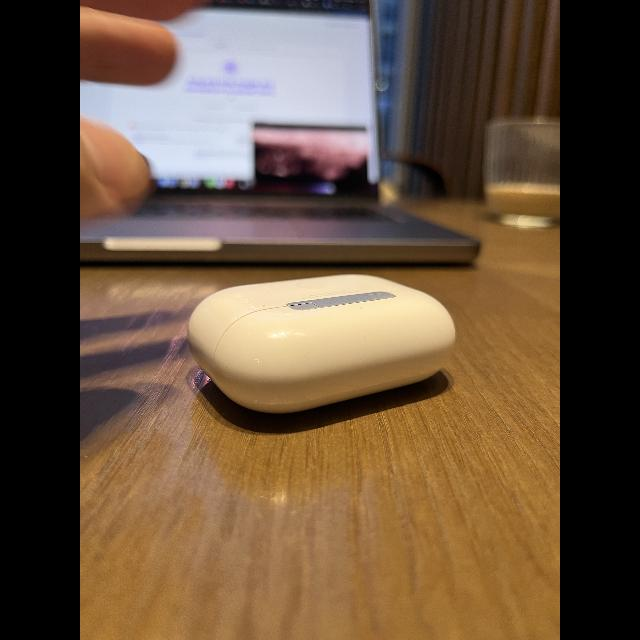AirPods Pro: (185, 269, 457, 436)
